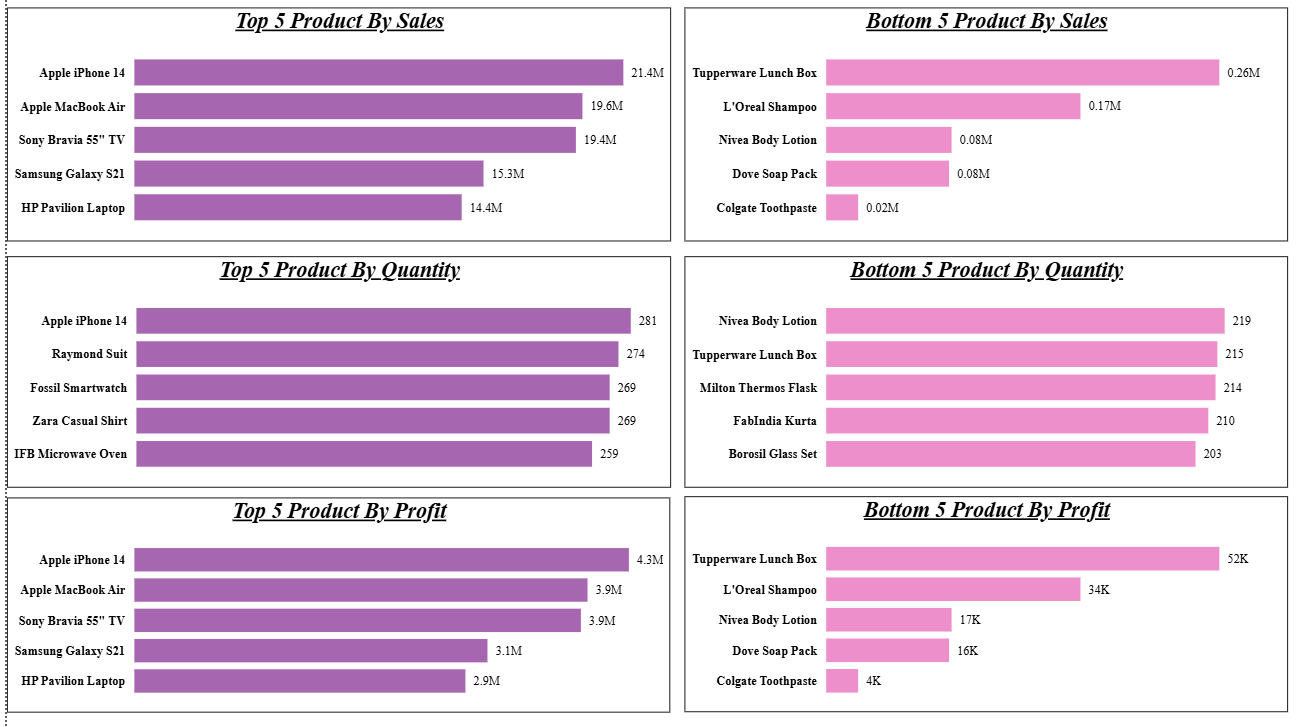

The page's visual inventory and layout, read from the dashboard file:
{"tool":"powerbi","page":{"name":"Top/Bottom 5 Analysis","canvas":[1280,720],"ordinal":1},"visuals":[{"type":"barChart","title":"Top 5 Product By Sales","fields":{"Category":["Dim Product.Product Name"],"Y":["Sum(Fact Table.Net Sales  )"]},"box":[0,12.2,649.3,228.7],"z":0},{"type":"barChart","title":"Bottom 5 Product By Sales","fields":{"Category":["Dim Product.Product Name"],"Y":["Sum(Fact Table.Net Sales  )"]},"box":[662.5,12.5,590,228.8],"z":1000},{"type":"barChart","title":"Top 5 Product By Quantity","fields":{"Category":["Dim Product.Product Name"],"Y":["Sum(Fact Table.Units Sold)"]},"box":[0,255.6,649.3,226.2],"z":2000},{"type":"barChart","title":"Bottom 5 Product By Quantity","fields":{"Category":["Dim Product.Product Name"],"Y":["Sum(Fact Table.Units Sold)"]},"box":[662.5,255,590,226.2],"z":3000},{"type":"barChart","title":"Top 5 Product By Profit","fields":{"Category":["Dim Product.Product Name"],"Y":["Sum(Fact Table.Profit)"]},"box":[0,491.2,648.8,210],"z":4000},{"type":"barChart","title":"Bottom 5 Product By Profit","fields":{"Category":["Dim Product.Product Name"],"Y":["Sum(Fact Table.Profit)"]},"box":[662.5,490,590,211.2],"z":5000}]}

Visuals, with their boxes in screenshot pixels (x1, y1, x2, y2), scaled from the page's 1280x720 canvas onto the 1306x727 screenshot:
"Top 5 Product By Sales" barChart: box=[0, 12, 662, 243]
"Bottom 5 Product By Sales" barChart: box=[676, 13, 1278, 244]
"Top 5 Product By Quantity" barChart: box=[0, 258, 662, 486]
"Bottom 5 Product By Quantity" barChart: box=[676, 257, 1278, 486]
"Top 5 Product By Profit" barChart: box=[0, 496, 662, 708]
"Bottom 5 Product By Profit" barChart: box=[676, 495, 1278, 708]
